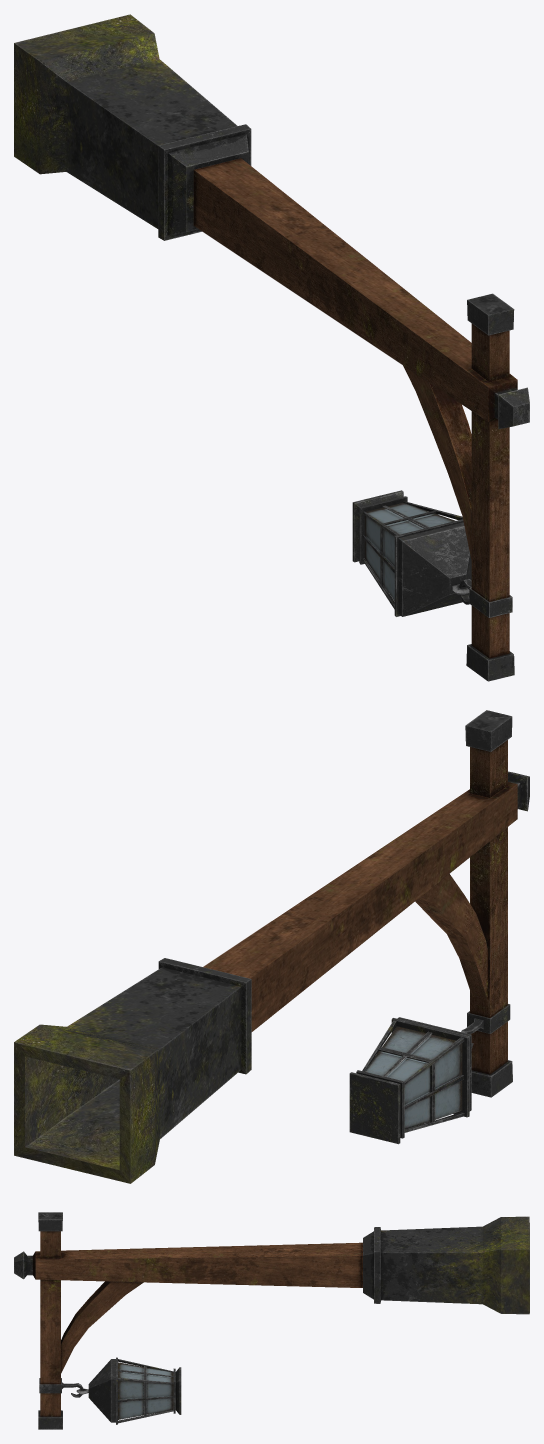
The model's file is Lamp1.obj.
The picture shows the model from 3 angles, top to bottom: view 1: azimuth 30°, elevation 25°; view 2: azimuth 150°, elevation 25°; view 3: azimuth 270°, elevation 25°; orthographic projection. The views are drawn at different scales.
Parts seen in each view (by area): view 1: Object.1; view 2: Object.1; view 3: Object.1.
Boxes of the visible parts, <box> form: Object.1: <box>14,14,529,681</box>; Object.1: <box>14,710,529,1183</box>; Object.1: <box>14,1212,529,1429</box>.
Size of the model in its own units: 299 by 897 by 2000.
